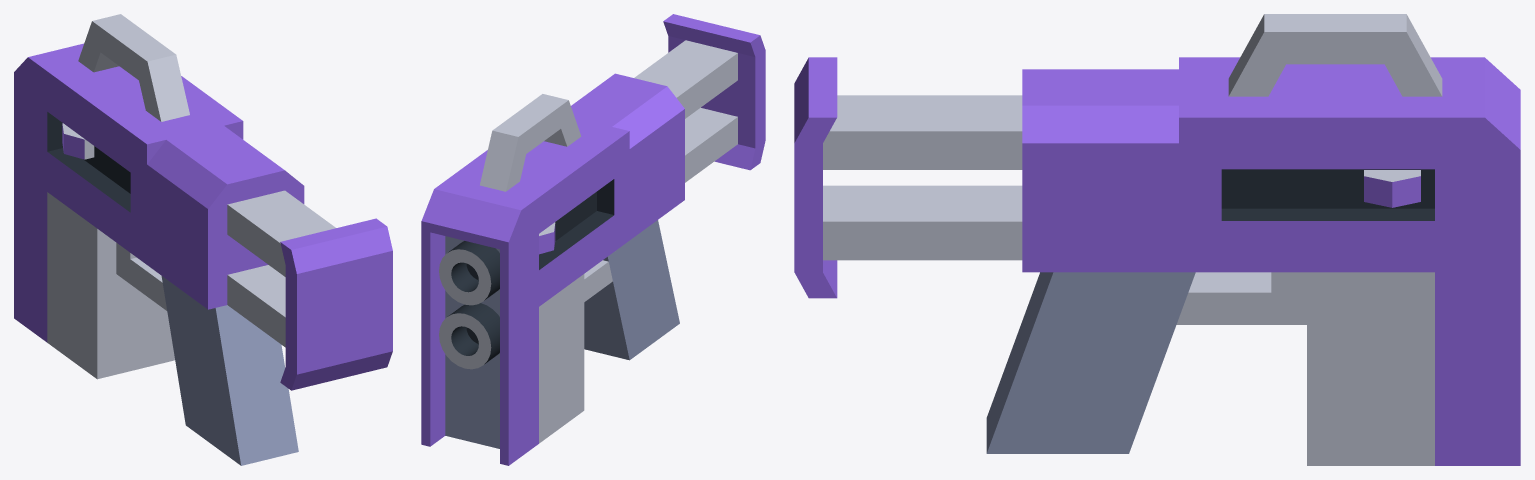
The model's file is blasterI.dae.
The picture shows the model from 3 angles, left to right: view 1: azimuth 30°, elevation 25°; view 2: azimuth 150°, elevation 25°; view 3: azimuth 270°, elevation 25°; orthographic projection. The views are drawn at different scales.
Visible parts, largest first — view 1: blasterI; view 2: blasterI; view 3: blasterI.
Part boxes in pixels (box(x1,y1,x2,y2)): blasterI: box(14, 14, 392, 465); blasterI: box(421, 14, 765, 465); blasterI: box(794, 14, 1520, 465).
Bounding box in the file's own units: 0.1 × 0.32 × 0.51.
